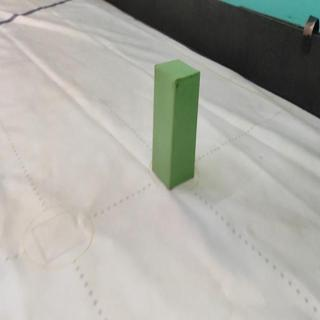greenbox: (151, 58, 201, 193)
